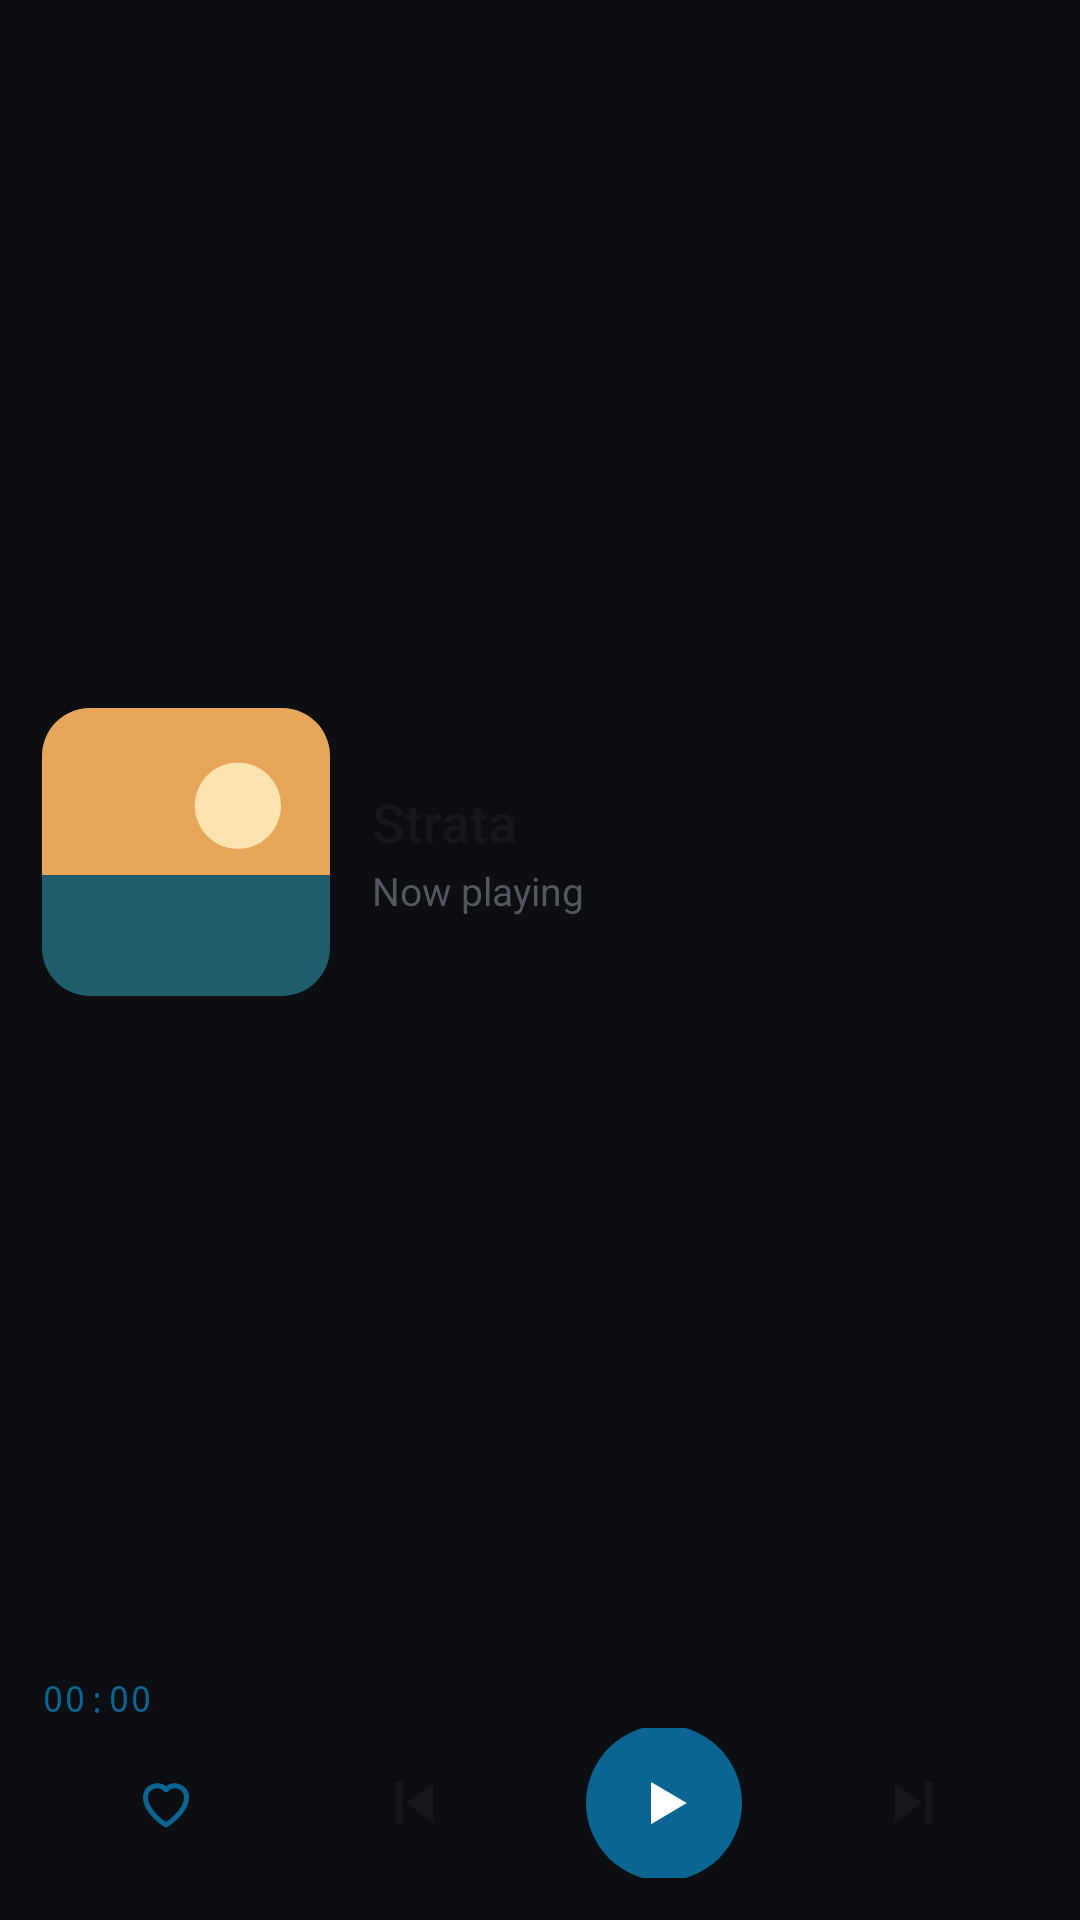

Screen size 1080x1920. Icon name, then its box in pixels as detection(x1, y1, x2, y2):
heart: detection(143, 1783, 189, 1828)
play: detection(586, 1728, 742, 1878)
